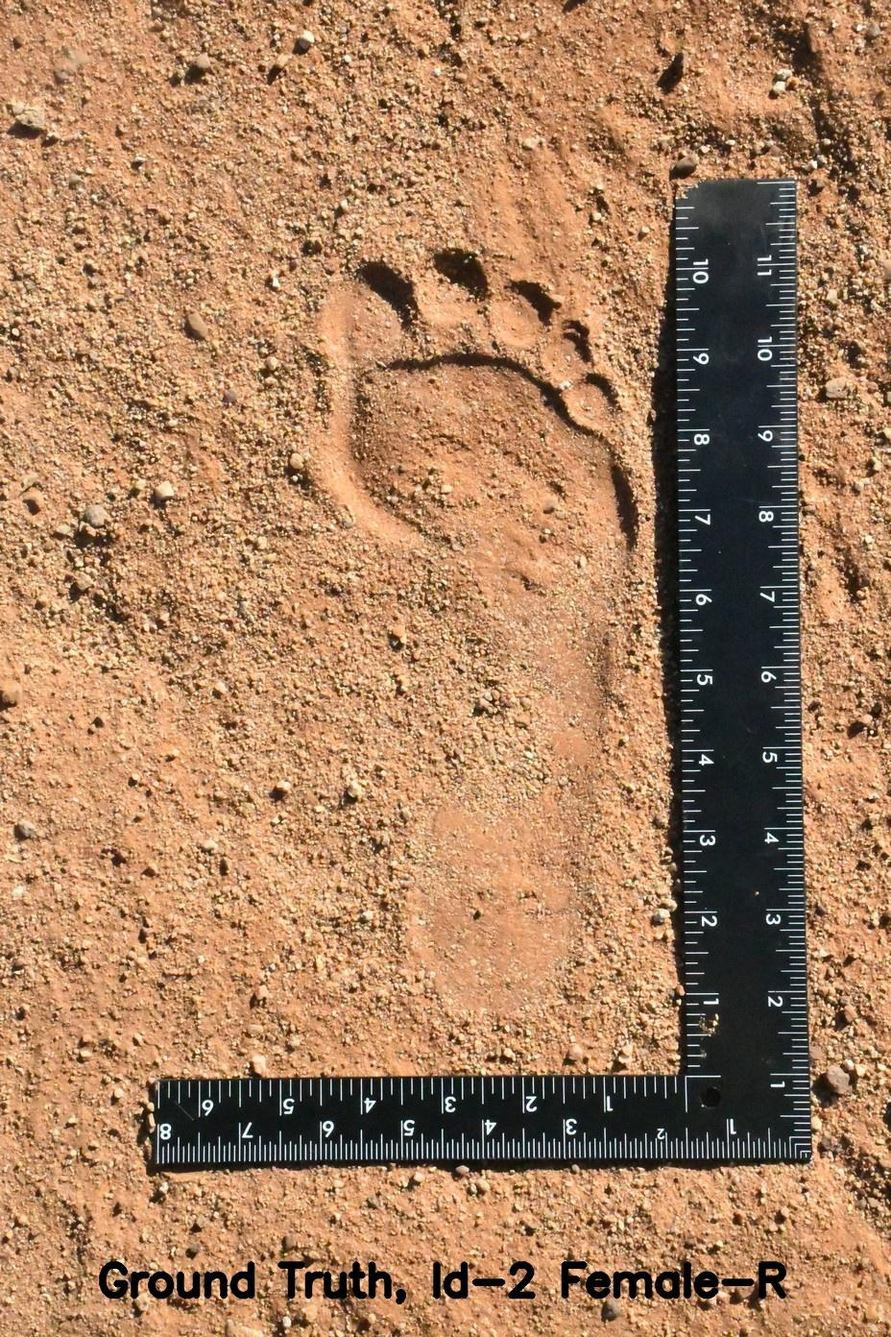human_footprint: (311, 199, 666, 1044)
